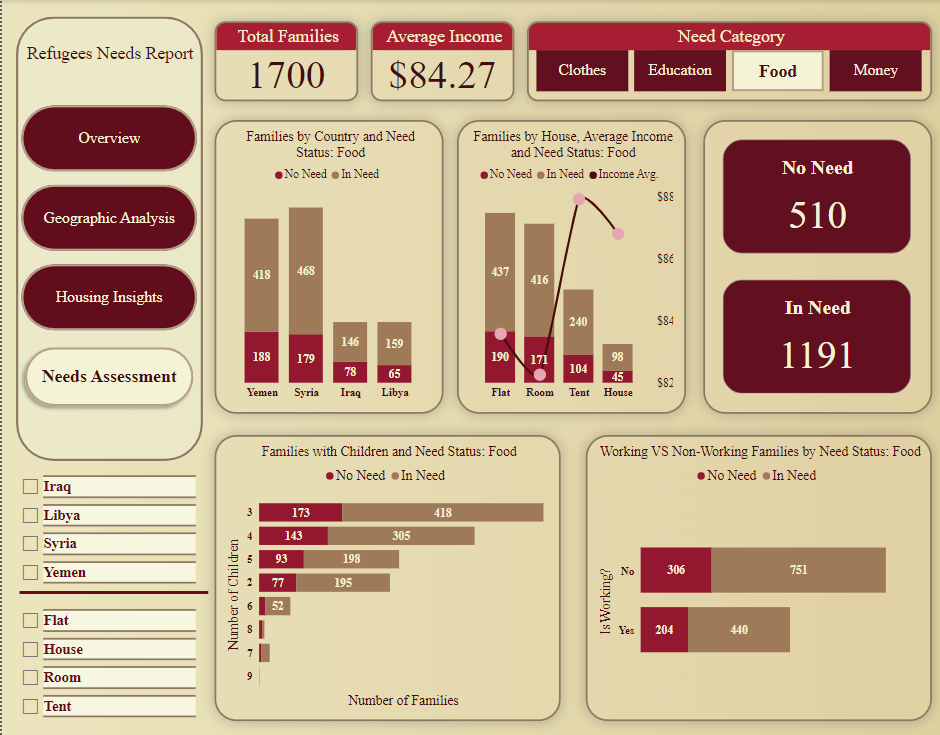

This screenshot's page, from the dashboard's own definition file:
{"tool":"powerbi","page":{"name":"Needs Assessment","canvas":[1280,1000],"ordinal":3},"visuals":[{"type":"card","title":"Average Income","fields":{"Values":["Avg(Needs.Income)"]},"box":[501,28.9,195.3,108.7],"z":0},{"type":"card","title":"Total Families","fields":{"Values":["Count(Needs.Name)"]},"box":[288.7,28.9,195.3,108.7],"z":1000},{"type":"shape","box":[15.3,18.7,261.6,611.4],"z":2000},{"type":"columnChart","fields":{"Y":["Measures_.S_No","Measures_.S_Yes"],"Category":["Needs.Country"]},"box":[288.7,163,310.8,399.1],"z":3000},{"type":"lineStackedColumnComboChart","fields":{"Y":["Measures_.S_No","Measures_.S_Yes"],"Y2":["Avg(Needs.Income)"],"Category":["Needs.House"]},"box":[618,163,310.8,399.1],"z":4000},{"type":"cardVisual","title":"Working VS Non-Working (Families)","fields":{"Data":["Measures_.S_No","Measures_.S_Yes"]},"box":[952.8,163,310.8,399.1],"z":5000},{"type":"barChart","fields":{"Category":["Needs.Under 18 "],"Y":["Measures_.S_No","Measures_.S_Yes"]},"box":[288.7,591,470,388.9],"z":6000},{"type":"barChart","fields":{"Category":["Needs.Is Working?"],"Y":["Measures_.S_No","Measures_.S_Yes"]},"box":[793,591,470,388.9],"z":7000},{"type":"shape","box":[23.8,798,256.5,13.6],"z":8000},{"type":"textbox","box":[22.1,54.3,249.7,42.5],"z":9000},{"type":"pageNavigator","box":[22.1,118.9,248,443.3],"z":10000},{"type":"slicer","fields":{"Values":["Needs.Country"]},"box":[15.3,636.9,253.1,168.1],"z":11000},{"type":"slicer","fields":{"Values":["Needs.House"]},"box":[15,818,253,168],"z":12000},{"type":"advancedSlicerVisual","title":"Need Category","fields":{"Values":["Needs_Types.Values"]},"box":[713.3,28.9,550.3,108.7],"z":13000}]}

Visuals, with their boxes in screenshot pixels (x1, y1, x2, y2), scaled from the page's 1280x1000 canvas onto the 940x735 screenshot:
"Average Income" card: bbox(368, 21, 511, 101)
"Total Families" card: bbox(212, 21, 355, 101)
shape: bbox(11, 14, 203, 463)
columnChart - Measures_.S_No x Measures_.S_Yes: bbox(212, 120, 440, 413)
lineStackedColumnComboChart - Measures_.S_No x Measures_.S_Yes: bbox(454, 120, 682, 413)
"Working VS Non-Working (Families)" cardVisual: bbox(700, 120, 928, 413)
barChart - Needs.Under 18  x Measures_.S_No: bbox(212, 434, 557, 720)
barChart - Needs.Is Working? x Measures_.S_No: bbox(582, 434, 928, 720)
shape: bbox(17, 587, 206, 597)
textbox: bbox(16, 40, 200, 71)
pageNavigator: bbox(16, 87, 198, 413)
slicer - Needs.Country: bbox(11, 468, 197, 592)
slicer - Needs.House: bbox(11, 601, 197, 725)
"Need Category" advancedSlicerVisual: bbox(524, 21, 928, 101)
